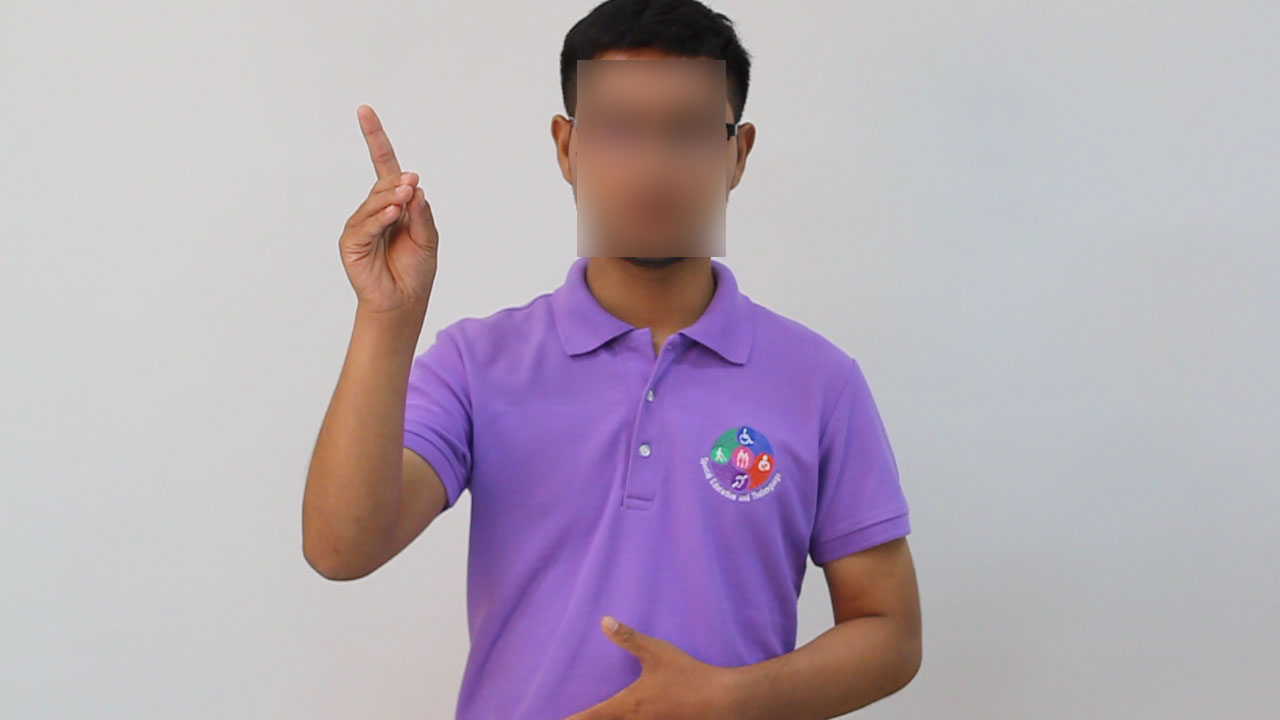dor: (317, 98, 457, 332)
